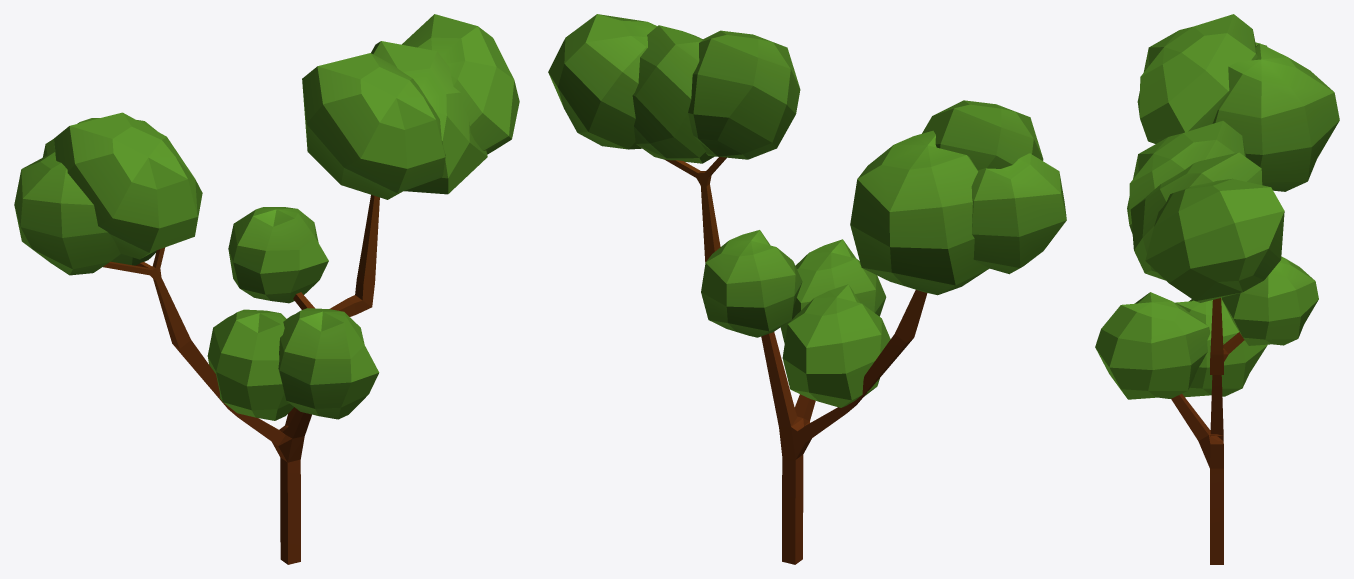
The model's file is pohon_sedang.glb.
The picture shows the model from 3 angles, left to right: view 1: azimuth 30°, elevation 25°; view 2: azimuth 150°, elevation 25°; view 3: azimuth 270°, elevation 25°; orthographic projection. The views are drawn at different scales.
Visible parts, largest first — view 1: Sphere.004, Sphere.005, Cube, Sphere.007, Sphere.001, Sphere.003, Sphere, Sphere.008, Sphere.006; view 2: Sphere.002, Sphere.004, Sphere.003, Cube, Sphere.008, Sphere.001, Sphere, Sphere.006, Sphere.005, Sphere.007; view 3: Sphere.003, Sphere.002, Sphere.005, Sphere.007, Sphere, Cube, Sphere.004, Sphere.006, Sphere.008.
Part boxes in pixels (x1,y1,x2,y2): Sphere.004: (302, 53, 445, 199); Sphere.005: (54, 112, 202, 259); Cube: (103, 195, 379, 564); Sphere.007: (278, 308, 379, 419); Sphere.001: (14, 151, 120, 275); Sphere.003: (402, 14, 519, 154); Sphere: (228, 207, 328, 303); Sphere.008: (207, 309, 293, 420); Sphere.006: (371, 41, 487, 194); Sphere.002: (850, 130, 989, 295); Sphere.004: (688, 30, 800, 159); Sphere.003: (548, 14, 657, 149); Cube: (665, 157, 927, 564); Sphere.008: (782, 284, 890, 407); Sphere.001: (971, 153, 1066, 274); Sphere: (701, 230, 802, 337); Sphere.006: (632, 25, 714, 163); Sphere.005: (922, 100, 1043, 170); Sphere.007: (780, 239, 886, 343); Sphere.003: (1145, 178, 1284, 302); Sphere.002: (1212, 43, 1339, 191); Sphere.005: (1137, 14, 1257, 143); Sphere.007: (1095, 292, 1210, 399); Sphere: (1222, 256, 1318, 345); Cube: (1171, 298, 1244, 564); Sphere.004: (1127, 121, 1245, 233); Sphere.006: (1130, 152, 1262, 280); Sphere.008: (1175, 297, 1267, 397).
Size of the model in its own units: 1.88 by 1.79 by 0.8649.
Materials: 1 (1 with a texture image).
